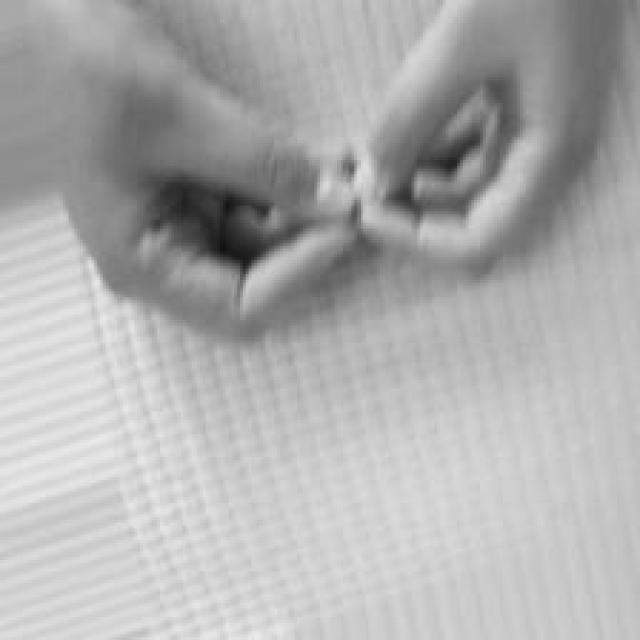B: (64, 0, 622, 344)
